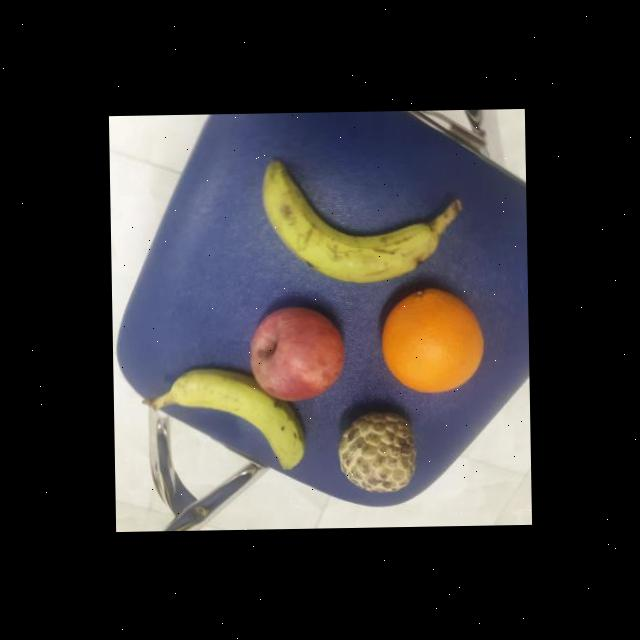Sakya fruit: (336, 411, 420, 496)
apple: (245, 302, 348, 406)
banana: (260, 158, 440, 290), (173, 366, 307, 479)
orange: (376, 288, 489, 396)
